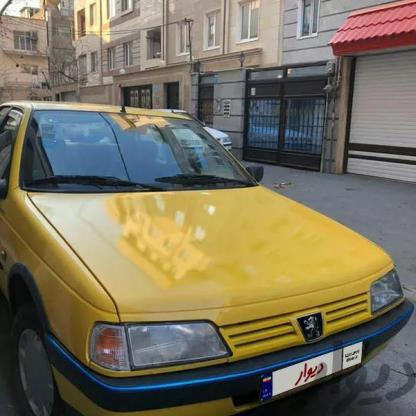Car: (0, 94, 416, 416), (127, 106, 240, 168)
